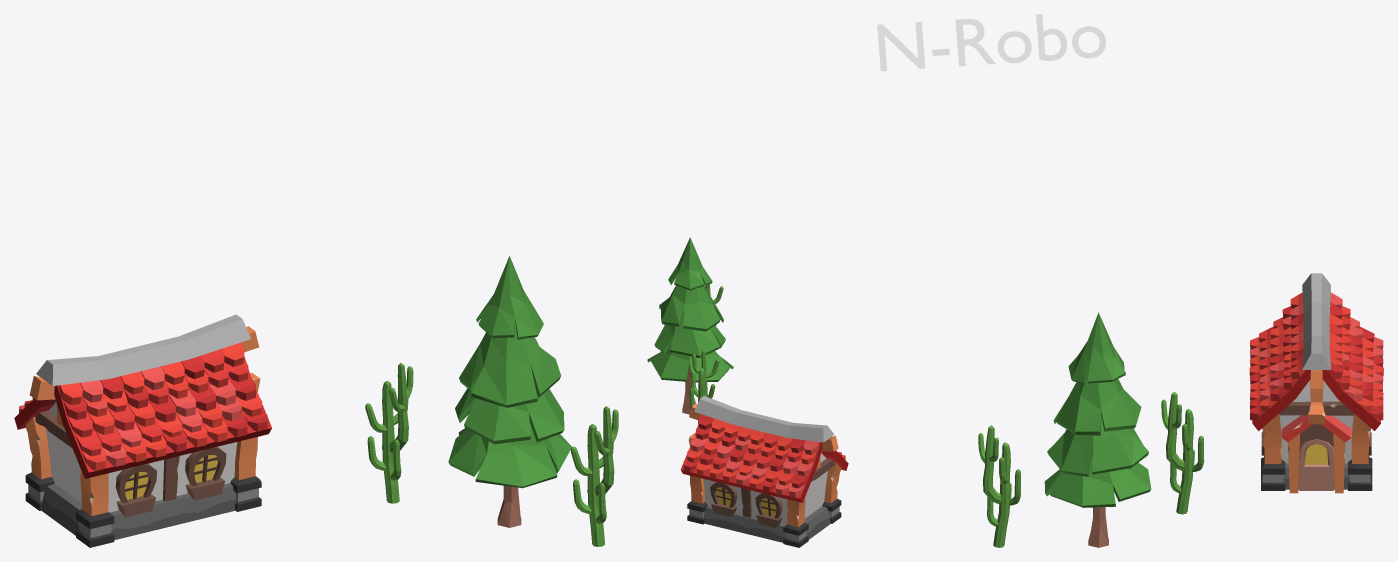
Rendered from pb_wed.glb.
The picture shows the model from 3 angles, left to right: view 1: azimuth 30°, elevation 25°; view 2: azimuth 150°, elevation 25°; view 3: azimuth 270°, elevation 25°; orthographic projection. The views are drawn at different scales.
Parts seen in each view (by area): view 1: house_003, fir_001, cactus_001, cactus_001.002; view 2: house_003, fir_001, cactus_001.002; view 3: house_003, fir_001, N-ROBO, cactus_001, cactus_001.002.
Part boxes in pixels (x1=…): house_003: x1=14, y1=314, x2=271, y2=547; fir_001: x1=448, y1=256, x2=571, y2=527; cactus_001: x1=570, y1=406, x2=618, y2=546; cactus_001.002: x1=365, y1=363, x2=413, y2=503; house_003: x1=680, y1=396, x2=848, y2=547; fir_001: x1=647, y1=237, x2=733, y2=414; cactus_001.002: x1=689, y1=349, x2=719, y2=423; house_003: x1=1249, y1=273, x2=1383, y2=493; fir_001: x1=1044, y1=312, x2=1151, y2=547; N-ROBO: x1=877, y1=14, x2=1105, y2=71; cactus_001: x1=978, y1=425, x2=1020, y2=547; cactus_001.002: x1=1161, y1=392, x2=1204, y2=514.
Bounding box in the file's own units: 9.85 × 13.09 × 12.3.
1 material, 1 textured.
